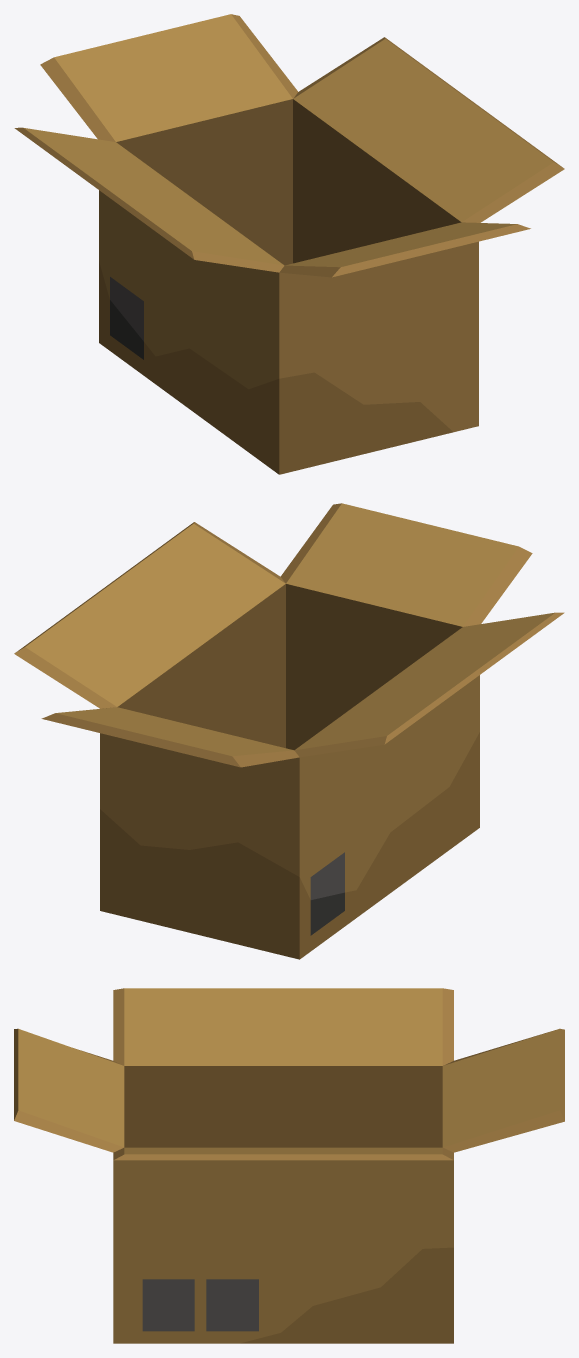
Rendered from AI_Prop_CarboardBox_02.fbx.
The picture shows the model from 3 angles, top to bottom: view 1: azimuth 30°, elevation 25°; view 2: azimuth 150°, elevation 25°; view 3: azimuth 270°, elevation 25°; orthographic projection. The views are drawn at different scales.
Visible parts, largest first — view 1: AI_Prop_CarboardBox_02; view 2: AI_Prop_CarboardBox_02; view 3: AI_Prop_CarboardBox_02.
Boxes of the visible parts, bbox=[...] form: AI_Prop_CarboardBox_02: bbox=[14, 14, 564, 474]; AI_Prop_CarboardBox_02: bbox=[14, 503, 564, 959]; AI_Prop_CarboardBox_02: bbox=[14, 988, 564, 1343].
Size of the model in its own units: 1.23 by 0.7635 by 1.67.
